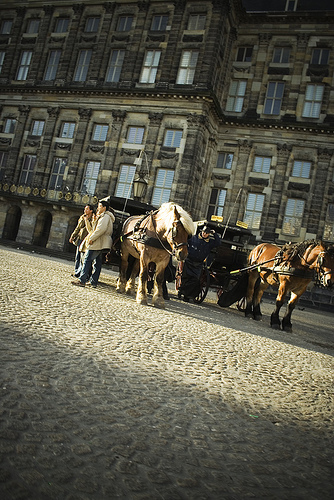horse: (116, 201, 196, 307), (244, 239, 334, 332)
